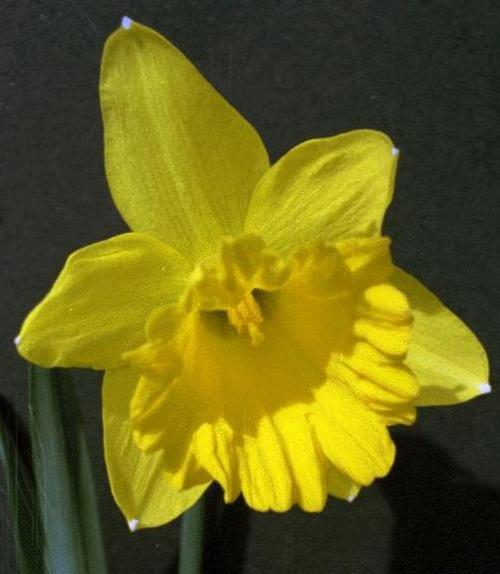flower1: (15, 15, 491, 535)
